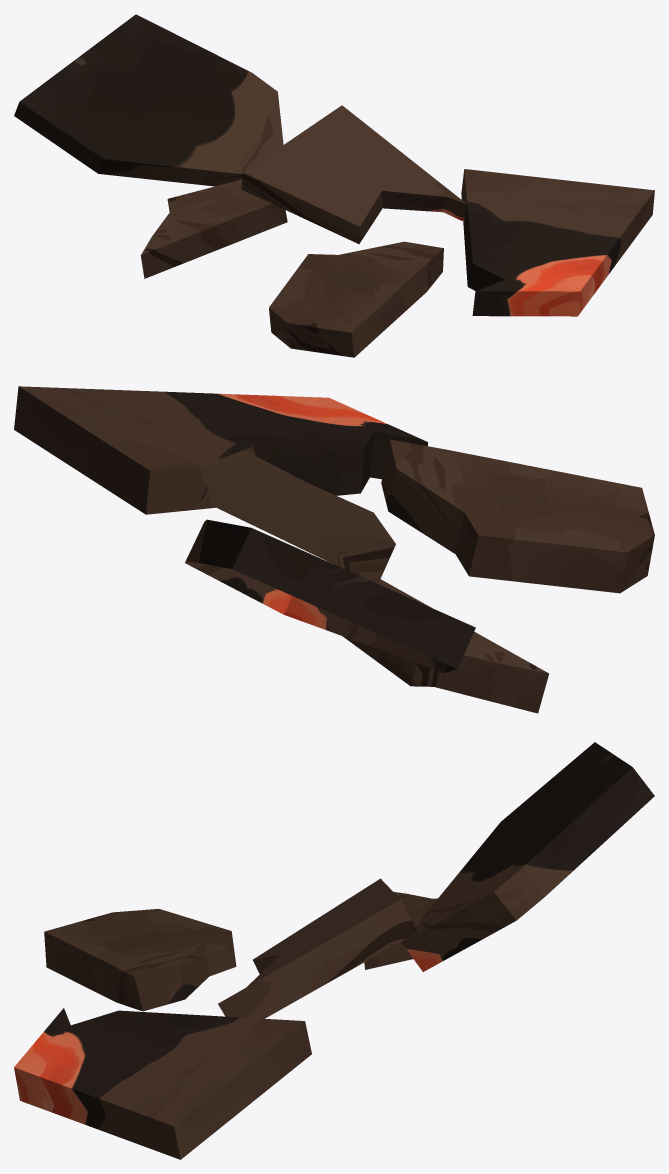
Rendered from ceilingcrumblemoss.FBX.
3 views of the same model, one above another, from view 1: azimuth 30°, elevation 25°; view 2: azimuth 150°, elevation 25°; view 3: azimuth 270°, elevation 25° (orthographic). The views are drawn at different scales.
Visible parts, largest first — view 1: crumble pile; view 2: crumble pile; view 3: crumble pile.
Part boxes in pixels (x1,y1,x2,y2): crumble pile: (14, 14, 654, 357); crumble pile: (14, 386, 654, 713); crumble pile: (14, 742, 654, 1159).
Bounding box in the file's own units: 421 × 147 × 399.
